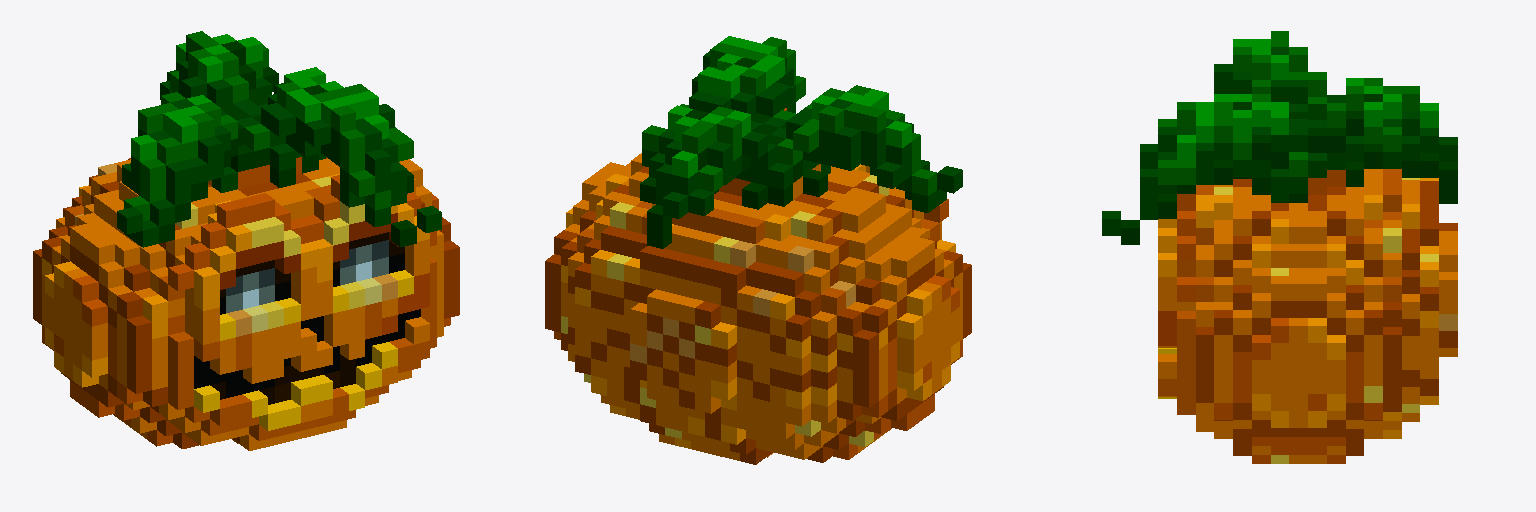
3 views of the same model, side by side, from view 1: azimuth 30°, elevation 25°; view 2: azimuth 150°, elevation 25°; view 3: azimuth 270°, elevation 25° (orthographic).
Visible parts, largest first — view 1: object 1; view 2: object 1; view 3: object 1.
Part boxes in pixels (left/top/right/bottom): object 1: left=33, top=31, right=459, bottom=450; object 1: left=545, top=36, right=971, bottom=464; object 1: left=1102, top=31, right=1457, bottom=463.
Bounding box in the file's own units: 2.2 × 2 × 1.9.
1 materials, 1 textured.